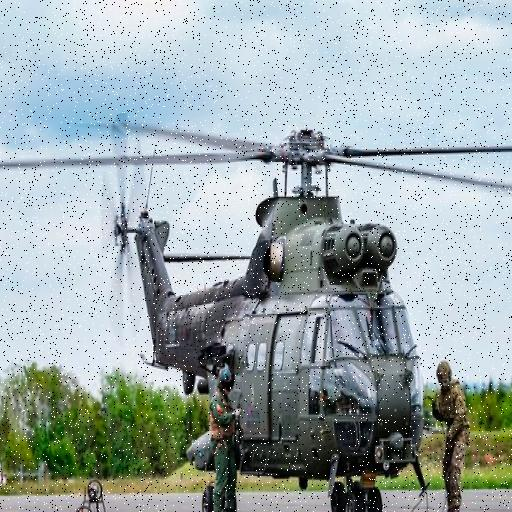helicopter: (7, 112, 512, 512)
